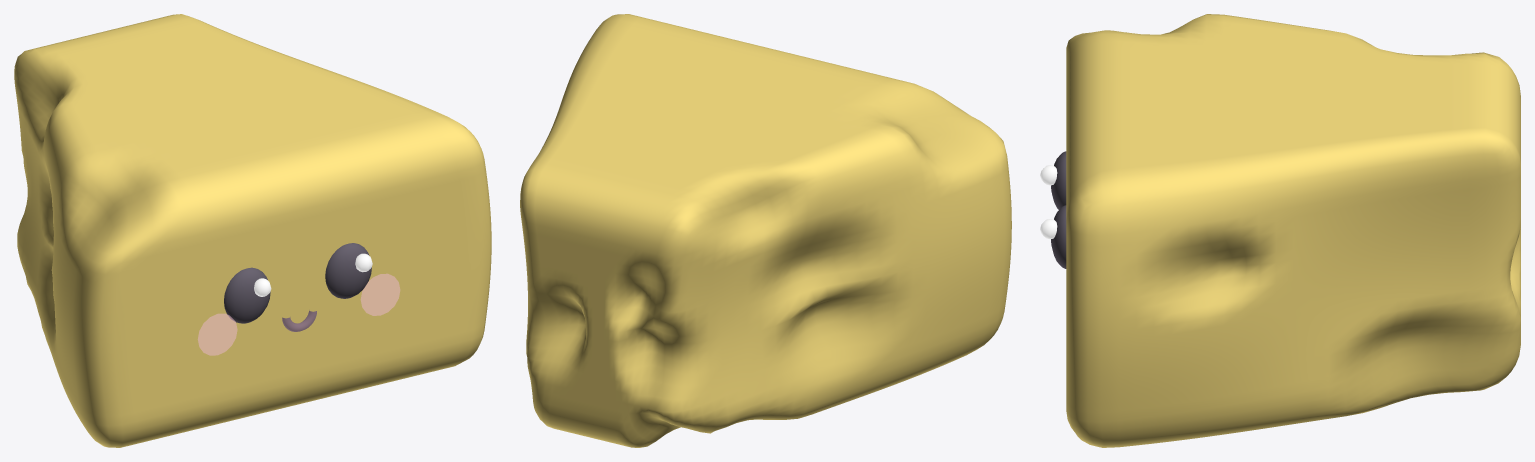
File: squishy_cheese.glb
3 renders of one model, left to right at view 1: azimuth 30°, elevation 25°; view 2: azimuth 150°, elevation 25°; view 3: azimuth 270°, elevation 25°, orthographic. The views are drawn at different scales.
Parts seen in each view (by area): view 1: Body, Part_0, Part_3, Part_2, Part_5; view 2: Body; view 3: Body, Part_3, Part_0.
Part boxes in pixels (x1,y1,x2,y2): Body: [14, 14, 491, 447]; Part_0: [224, 267, 270, 323]; Part_3: [325, 243, 371, 298]; Part_2: [198, 313, 237, 355]; Part_5: [360, 273, 400, 315]; Body: [520, 14, 1011, 447]; Body: [1066, 14, 1520, 447]; Part_3: [1051, 205, 1066, 268]; Part_0: [1051, 151, 1066, 209].
Size of the model in its own units: 2.14 by 1.24 by 2.01.
